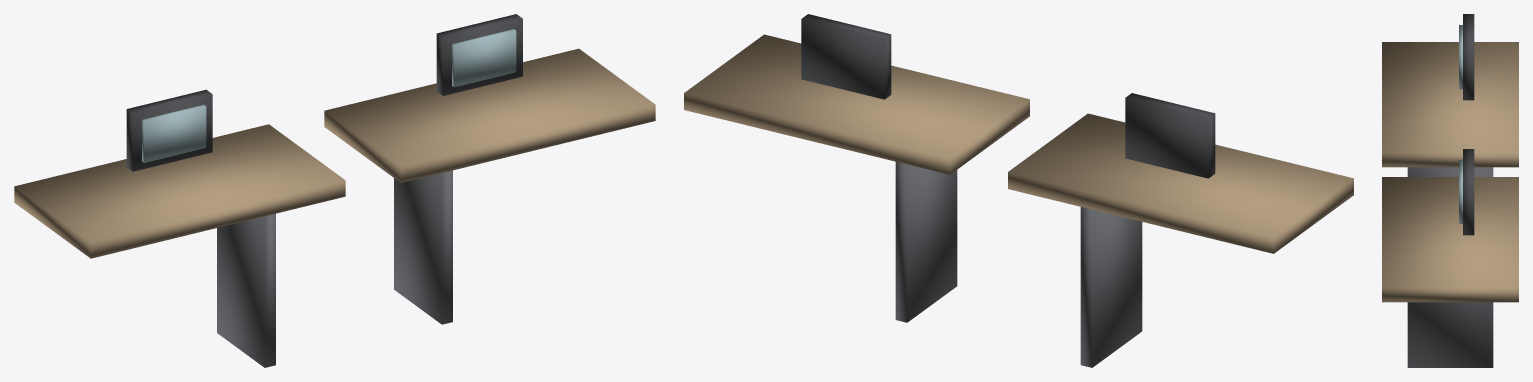
File: newsroom_desk_cluster.glb
3 renders of one model, left to right at view 1: azimuth 30°, elevation 25°; view 2: azimuth 150°, elevation 25°; view 3: azimuth 270°, elevation 25°, orthographic. The views are drawn at different scales.
Parts seen in each view (by area): view 1: world; view 2: world; view 3: world.
Boxes of the visible parts, x1,y1,x2,y2 form: world: (14,14,655,367); world: (684,14,1353,367); world: (1382,14,1518,367).
Bounding box in the file's own units: 2.55 × 1.11 × 0.6.
